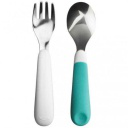Fork: (23, 1, 60, 125)
